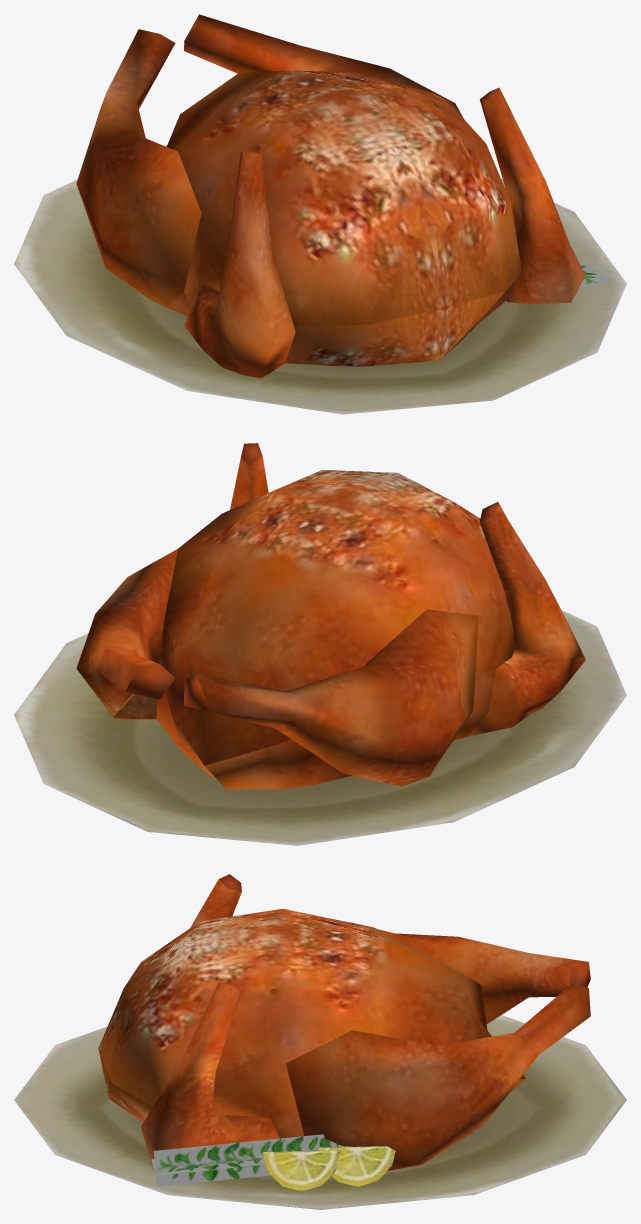
The model's file is Pickup_Smallgearbox.glb.
The picture shows the model from 3 angles, top to bottom: view 1: azimuth 30°, elevation 25°; view 2: azimuth 150°, elevation 25°; view 3: azimuth 270°, elevation 25°; orthographic projection. The views are drawn at different scales.
Parts seen in each view (by area): view 1: pk_shaojxb; view 2: pk_shaojxb; view 3: pk_shaojxb.
Part boxes in pixels (left/top/right/bottom): pk_shaojxb: left=14, top=14, right=626, bottom=414; pk_shaojxb: left=14, top=443, right=626, bottom=845; pk_shaojxb: left=14, top=874, right=626, bottom=1209.
Size of the model in its own units: 0.5296 by 0.2399 by 0.6249.
1 material, 1 textured.
